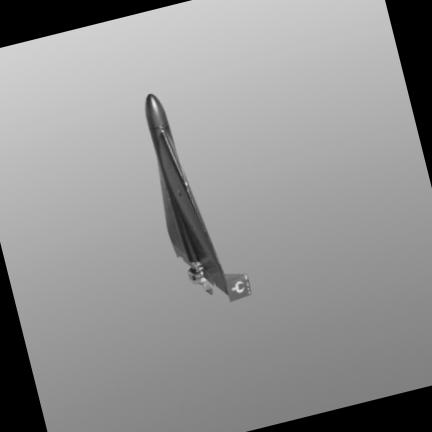Shahed: (145, 94, 251, 300)
